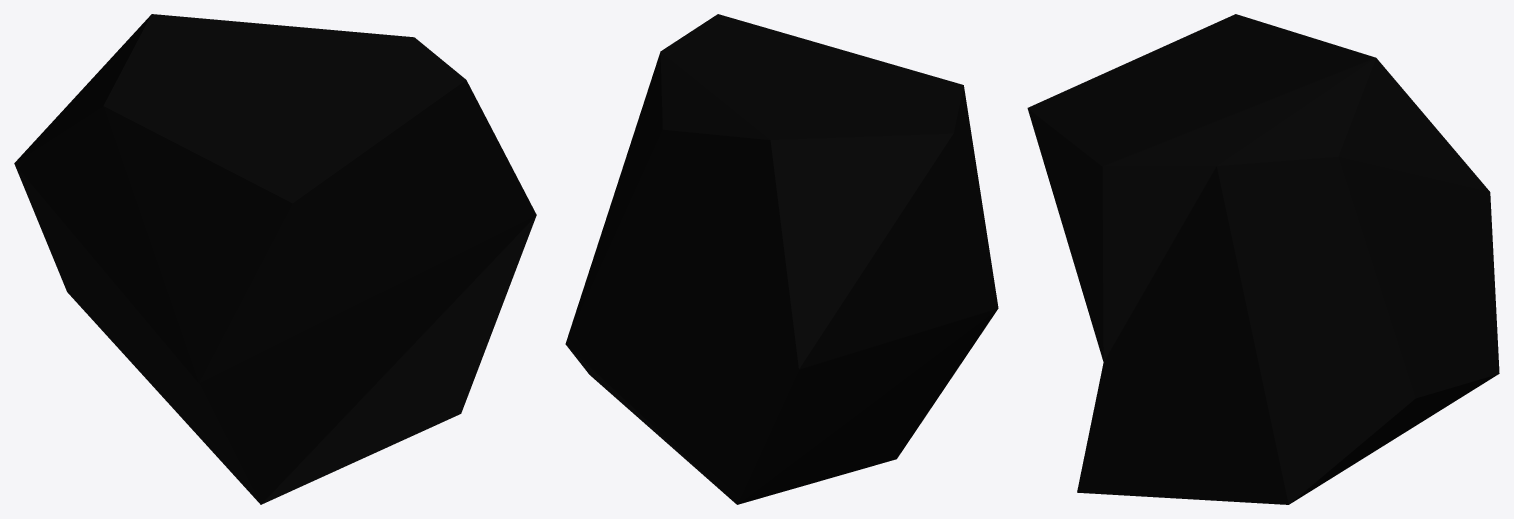
Rendered from drop1.glb.
3 views of the same model, side by side, from view 1: azimuth 30°, elevation 25°; view 2: azimuth 150°, elevation 25°; view 3: azimuth 270°, elevation 25° (orthographic). The views are drawn at different scales.
Parts seen in each view (by area): view 1: Cube; view 2: Cube; view 3: Cube.
Boxes of the visible parts, x1=… form: Cube: x1=14, y1=14, x2=536, y2=504; Cube: x1=565, y1=14, x2=998, y2=504; Cube: x1=1027, y1=14, x2=1499, y2=504.
Size of the model in its own units: 0.8024 by 0.8345 by 0.8487.
1 material, 1 textured.
